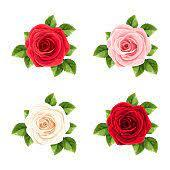Rose: (19, 102, 77, 151), (22, 21, 75, 74), (101, 20, 153, 70), (106, 100, 155, 149)
